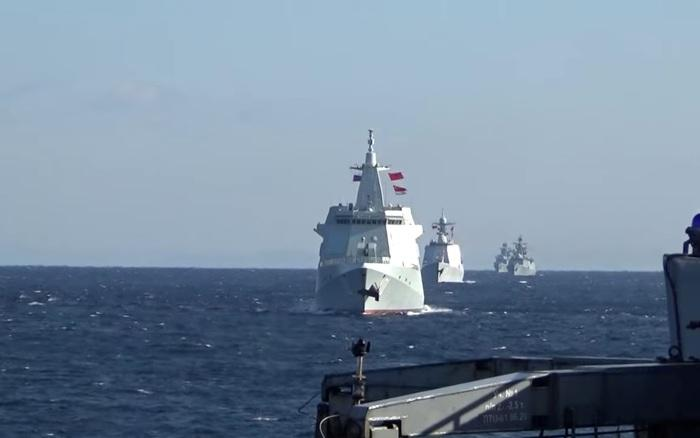MIL_Ship: (312, 126, 427, 316), (421, 209, 469, 286), (507, 234, 540, 281), (493, 240, 512, 276)
